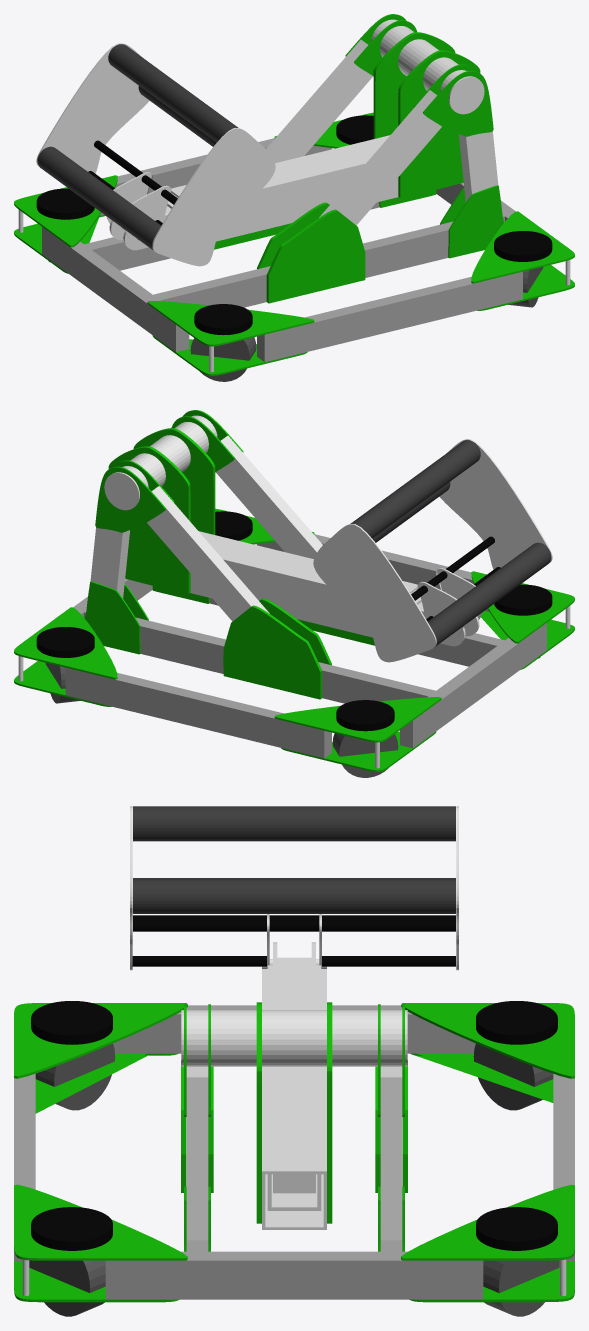
The model's file is 2910lowpoly.fbx.
The picture shows the model from 3 angles, top to bottom: view 1: azimuth 30°, elevation 25°; view 2: azimuth 150°, elevation 25°; view 3: azimuth 270°, elevation 25°; orthographic projection. The views are drawn at different scales.
Parts seen in each view (by area): view 1: Cube.001, BezierCurve.025, Cube.010, BezierCurve.012, BezierCurve.024, Cube.007, Cube.003, Cube.006, BezierCurve.020, Cube.009, Cylinder.009, Cylinder.011 (+29 smaller); view 2: Cube, BezierCurve.024, Cube.010, BezierCurve.015, BezierCurve.025, Cube.008, Cube.003, Cube.009, BezierCurve.021, Cube.006, Cylinder.009, Cylinder.011 (+29 smaller); view 3: Cube.002, Cylinder.004, Cylinder.011, Cube.010, Cylinder.010, BezierCurve.003, BezierCurve.005, BezierCurve.006, BezierCurve.001, Cube.003, Cube.004, Cube.005 (+22 smaller).
Boxes of the visible parts, left/top/right/bottom form: Cube.001: left=257, top=271, right=522, bottom=362; BezierCurve.025: left=152, top=128, right=275, bottom=266; Cube.010: left=171, top=135, right=398, bottom=241; BezierCurve.012: left=266, top=209, right=365, bottom=303; BezierCurve.024: left=36, top=43, right=149, bottom=173; Cube.007: left=153, top=215, right=504, bottom=307; Cube.003: left=42, top=227, right=189, bottom=352; Cube.006: left=319, top=90, right=441, bottom=225; BezierCurve.020: left=398, top=50, right=480, bottom=197; Cube.009: left=266, top=39, right=372, bottom=162; Cylinder.009: left=37, top=146, right=161, bottom=250; Cylinder.011: left=108, top=44, right=238, bottom=142; Cube: left=65, top=667, right=331, bottom=758; BezierCurve.024: left=313, top=524, right=436, bottom=662; Cube.010: left=190, top=531, right=417, bottom=637; BezierCurve.015: left=223, top=605, right=322, bottom=699; BezierCurve.025: left=439, top=439, right=552, bottom=569; Cube.008: left=84, top=611, right=435, bottom=703; Cube.003: left=400, top=623, right=546, bottom=748; Cube.009: left=147, top=486, right=269, bottom=621; BezierCurve.021: left=108, top=446, right=190, bottom=593; Cube.006: left=215, top=435, right=322, bottom=558; Cylinder.009: left=428, top=542, right=551, bottom=646; Cylinder.011: left=350, top=440, right=480, bottom=538; Cube.002: left=105, top=1251, right=483, bottom=1299; Cylinder.004: left=181, top=1010, right=407, bottom=1066; Cylinder.011: left=133, top=806, right=455, bottom=841; Cube.010: left=262, top=969, right=326, bottom=1229; Cylinder.010: left=133, top=879, right=455, bottom=913; BezierCurve.003: left=401, top=1184, right=574, bottom=1260; BezierCurve.005: left=14, top=1184, right=187, bottom=1260; BezierCurve.006: left=14, top=1003, right=187, bottom=1078; BezierCurve.001: left=401, top=1003, right=574, bottom=1078; Cube.003: left=113, top=1005, right=475, bottom=1053; Cube.004: left=380, top=1066, right=402, bottom=1240; Cube.005: left=186, top=1066, right=208, bottom=1240.
Bounding box in the file's own units: 73.84 × 41.22 × 66.05.
